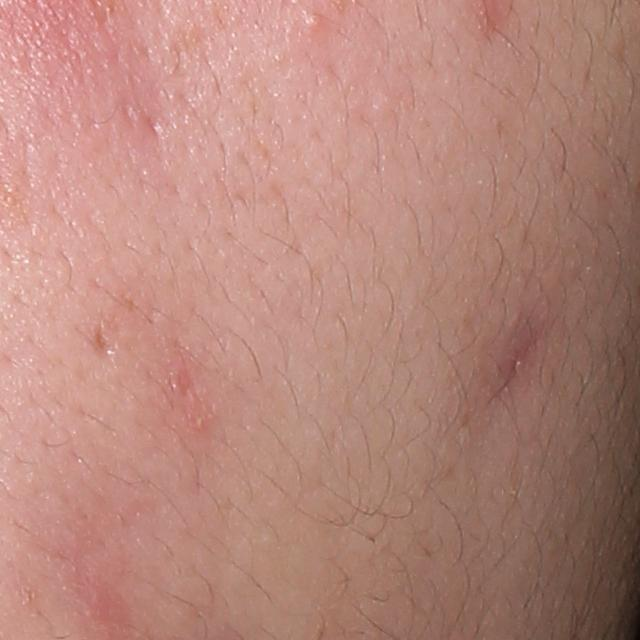atrophic_scar: (475, 325, 556, 416), (93, 317, 116, 360)
comedo: (303, 8, 323, 29)
